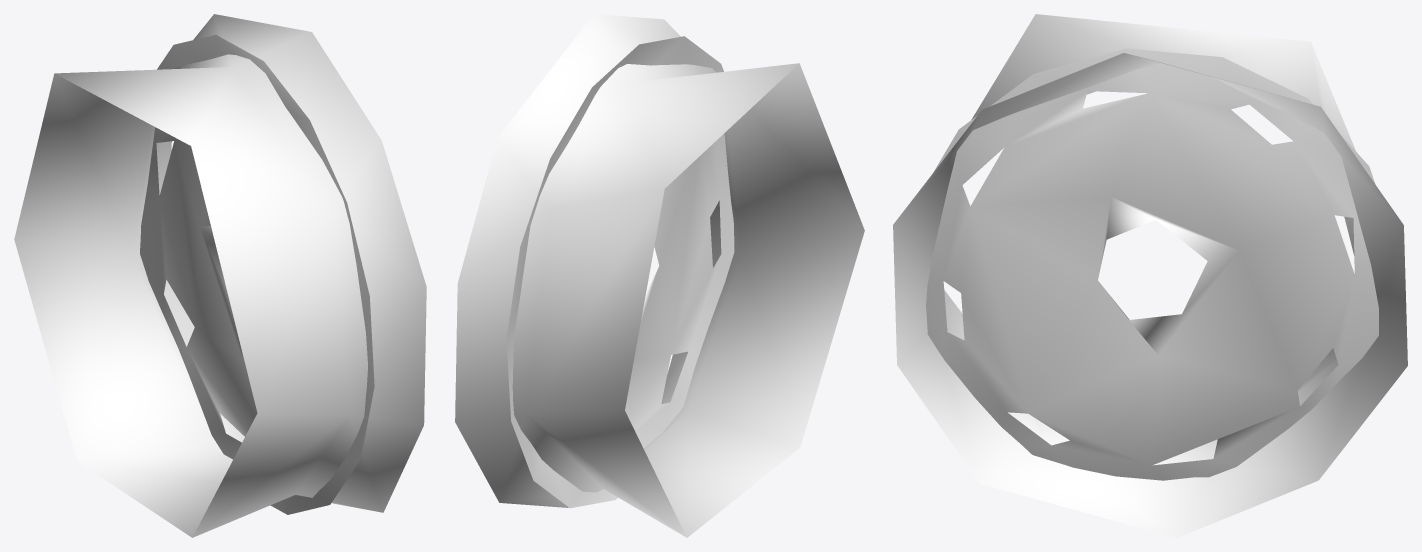
3 views of the same model, side by side, from view 1: azimuth 30°, elevation 25°; view 2: azimuth 150°, elevation 25°; view 3: azimuth 270°, elevation 25° (orthographic). The views are drawn at different scales.
Bounding box in the file's own units: 0.1418 × 0.3965 × 0.3814.
Materials: 1 (1 with a texture image).
